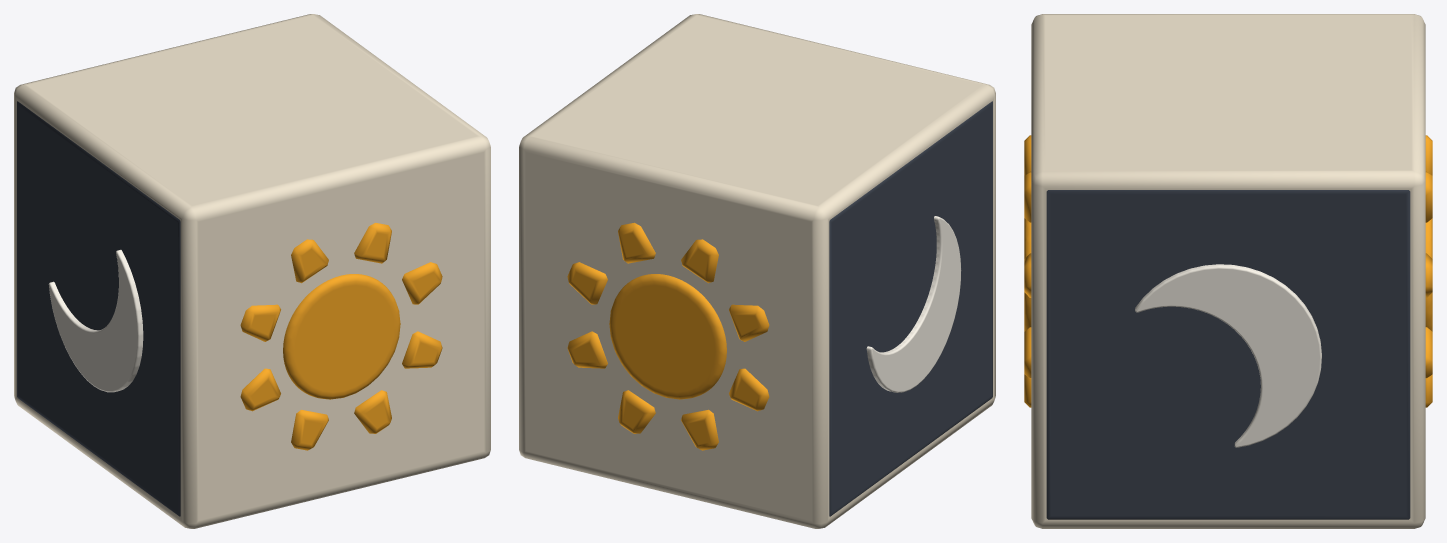
Rendered from tile.glb.
The picture shows the model from 3 angles, left to right: view 1: azimuth 30°, elevation 25°; view 2: azimuth 150°, elevation 25°; view 3: azimuth 270°, elevation 25°; orthographic projection. The views are drawn at different scales.
Visible parts, largest first — view 1: Tile_Body, Moon_Face, Sun, Moon; view 2: Tile_Body, Moon_Face, Sun, Moon; view 3: Moon_Face, Tile_Body, Moon, Sun.
Part boxes in pixels (bbox=[...]): Tile_Body: bbox=[14, 14, 490, 528]; Moon_Face: bbox=[17, 101, 180, 516]; Sun: bbox=[240, 222, 442, 450]; Moon: bbox=[48, 249, 143, 392]; Tile_Body: bbox=[519, 14, 995, 528]; Moon_Face: bbox=[829, 101, 992, 516]; Sun: bbox=[567, 222, 769, 450]; Moon: bbox=[866, 216, 961, 392]; Moon_Face: bbox=[1046, 190, 1410, 519]; Tile_Body: bbox=[1031, 14, 1425, 528]; Moon: bbox=[1135, 264, 1321, 447]; Sun: bbox=[1024, 135, 1432, 407].
Size of the model in its own units: 0.87 by 0.84 by 0.87.
